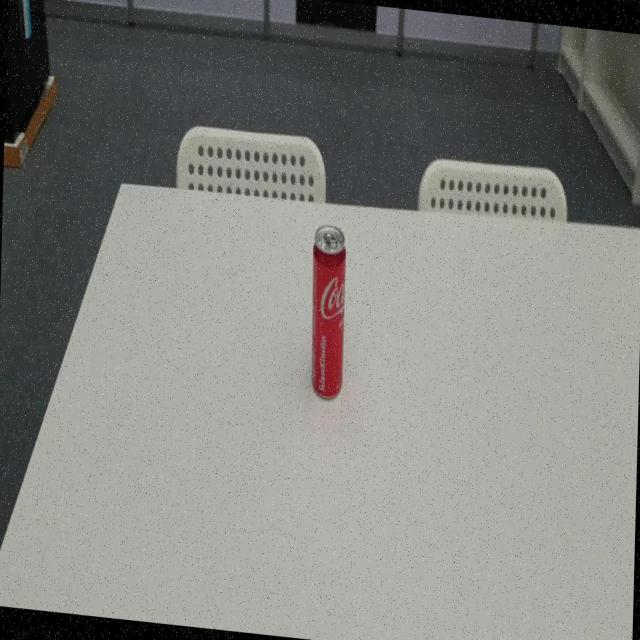coca-cola: (308, 221, 349, 409)
